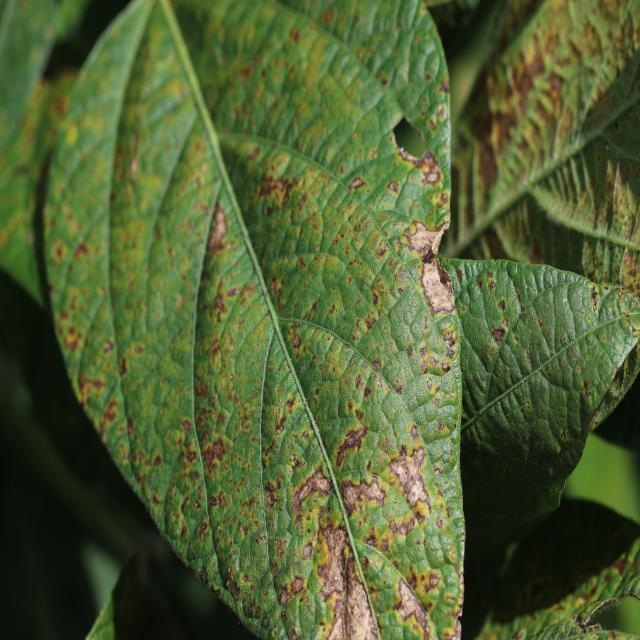Bacterial_Blight: (384, 194, 461, 619), (488, 17, 573, 169), (32, 131, 65, 355), (290, 319, 377, 387), (307, 517, 348, 638), (410, 211, 455, 312), (391, 143, 442, 210), (293, 467, 331, 519), (587, 377, 620, 430), (346, 476, 389, 512), (335, 425, 367, 467), (259, 170, 293, 201), (209, 274, 231, 321), (206, 206, 228, 251), (200, 437, 225, 471), (620, 249, 638, 279), (528, 239, 544, 265), (617, 591, 640, 609), (575, 611, 595, 631), (264, 485, 277, 509), (290, 575, 305, 595), (491, 326, 506, 344), (301, 541, 314, 561), (349, 176, 366, 191), (364, 530, 379, 547), (278, 589, 291, 607), (290, 454, 301, 468), (292, 334, 302, 349), (582, 379, 590, 396), (552, 485, 564, 495), (396, 145, 405, 155), (561, 428, 566, 440)
Soybean: (44, 2, 464, 640)
